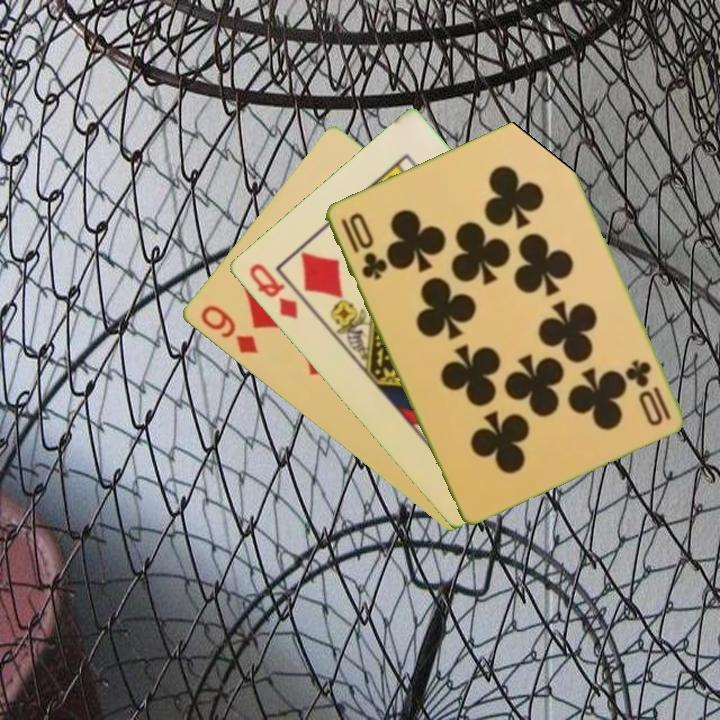10c: (336, 208, 389, 283), (623, 355, 673, 423)
9d: (196, 301, 261, 357)
Qd: (245, 259, 301, 323)
